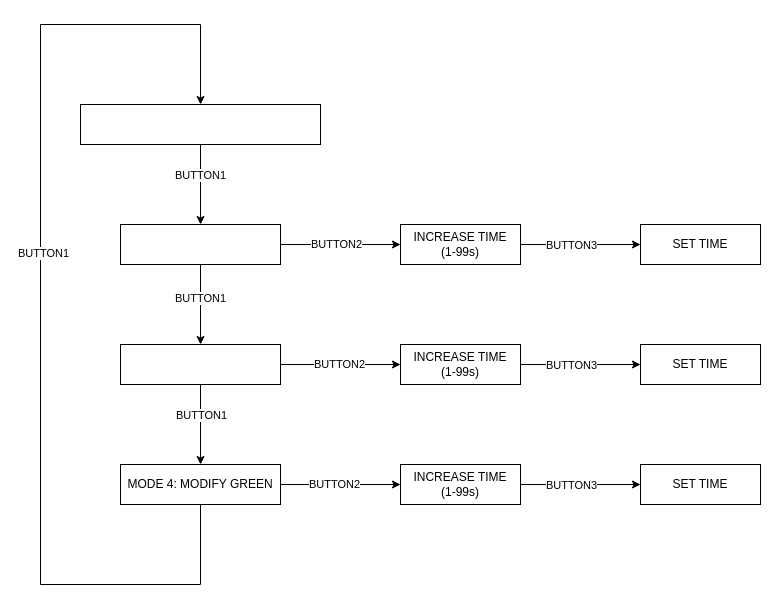
Some shapes in this 778 by 610 pixel diagram are drawn without their labels. Here are the shapes that lost their labels. From the top down, the centre of each, then its label:
(x=200, y=124): MODE 1: NORMAL (5 RED -> 3 GREEN -> 2 YELLOW)
(x=200, y=244): MODE 2: MODIFY RED
(x=200, y=364): MODE 3: MODIFY YELLOW
